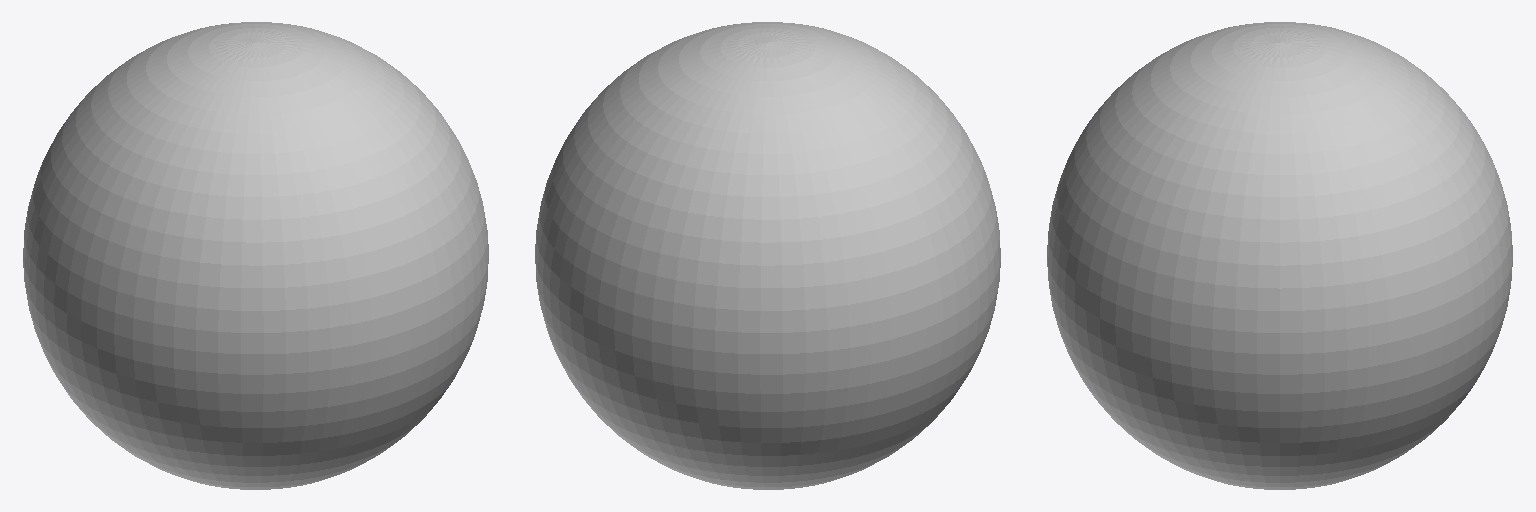
File: earth.obj
3 views of the same model, side by side, from view 1: azimuth 30°, elevation 25°; view 2: azimuth 150°, elevation 25°; view 3: azimuth 270°, elevation 25° (orthographic).
Parts seen in each view (by area): view 1: atmosphere_Sphere.002; view 2: atmosphere_Sphere.002; view 3: atmosphere_Sphere.002.
Boxes of the visible parts, x1,y1,x2,y2 form: atmosphere_Sphere.002: [23, 22, 488, 489]; atmosphere_Sphere.002: [535, 22, 1000, 489]; atmosphere_Sphere.002: [1047, 22, 1512, 489].
Bounding box in the file's own units: 19.94 × 20.15 × 19.94.